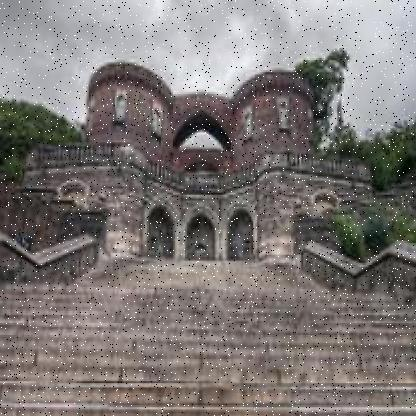stair_up: (0, 272, 416, 416)
